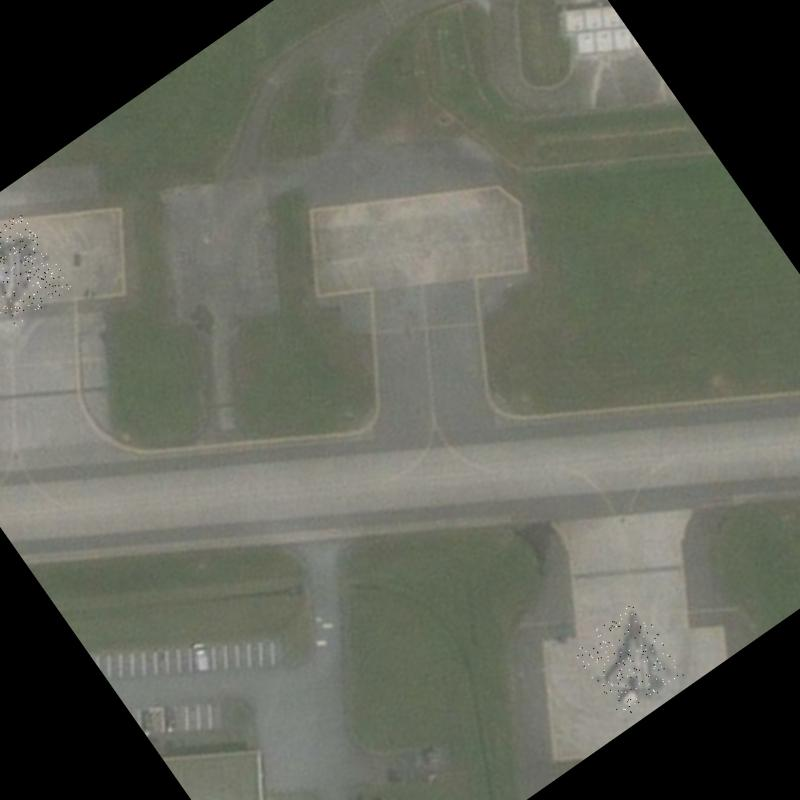A15: (570, 601, 688, 721), (0, 212, 72, 328)
